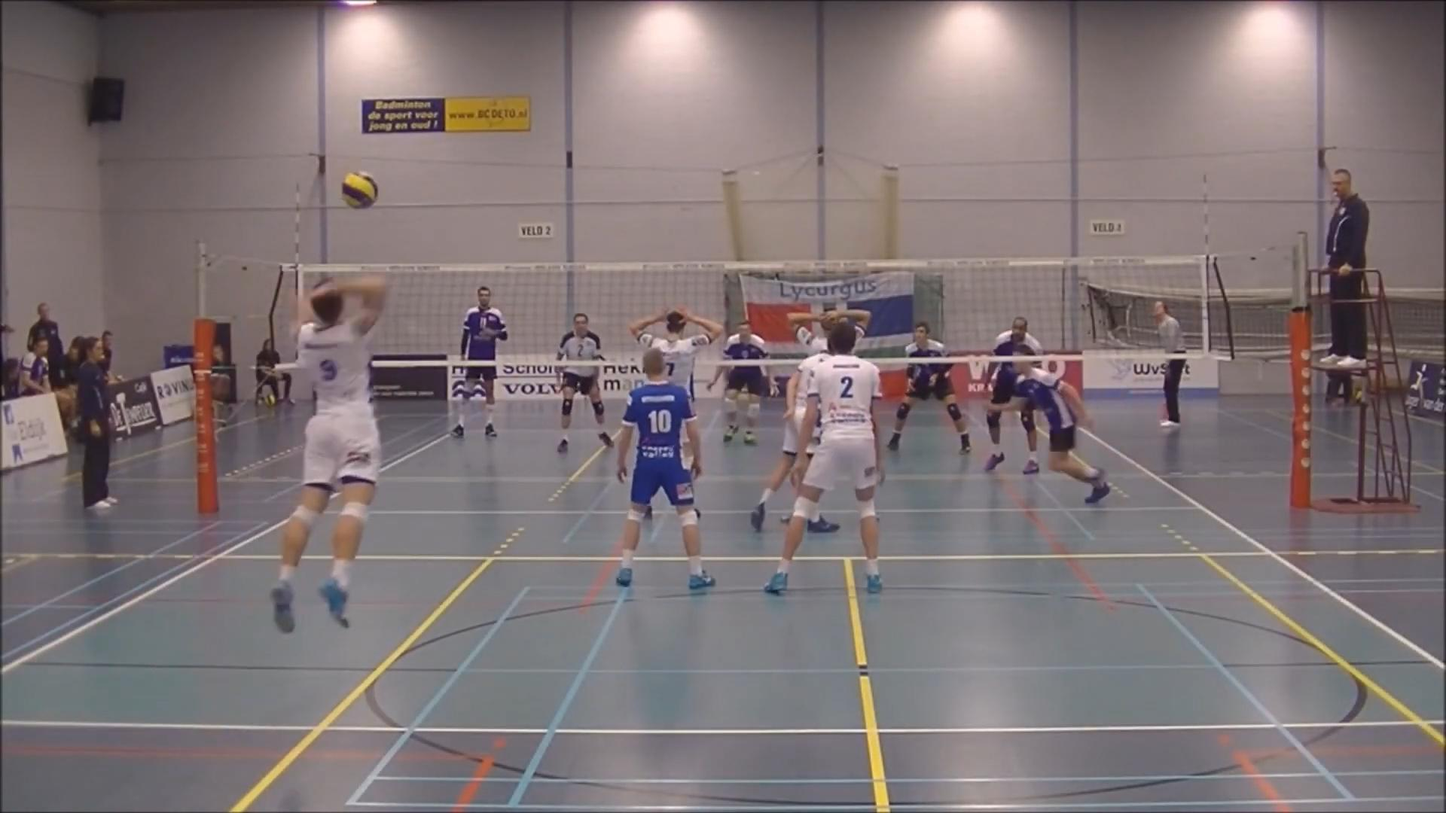Player: (765, 322, 883, 593), (615, 348, 715, 589), (989, 358, 1110, 503), (750, 352, 828, 531), (887, 321, 970, 453), (628, 306, 723, 396), (708, 321, 775, 444), (557, 365, 612, 452), (453, 365, 497, 437), (1020, 408, 1039, 473)
Serve: (259, 264, 402, 644)
ball: (342, 170, 377, 206)
